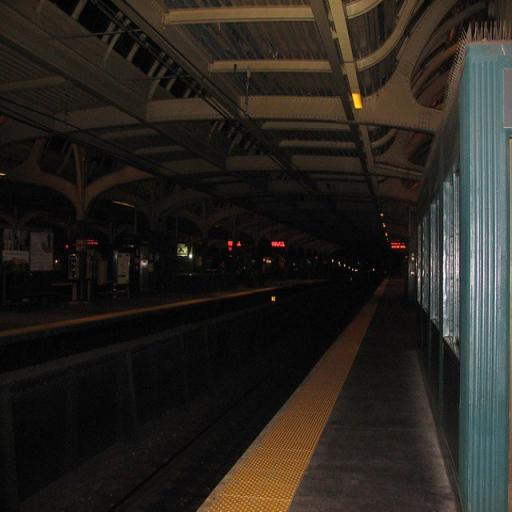platform_edge: (175, 274, 396, 512)
